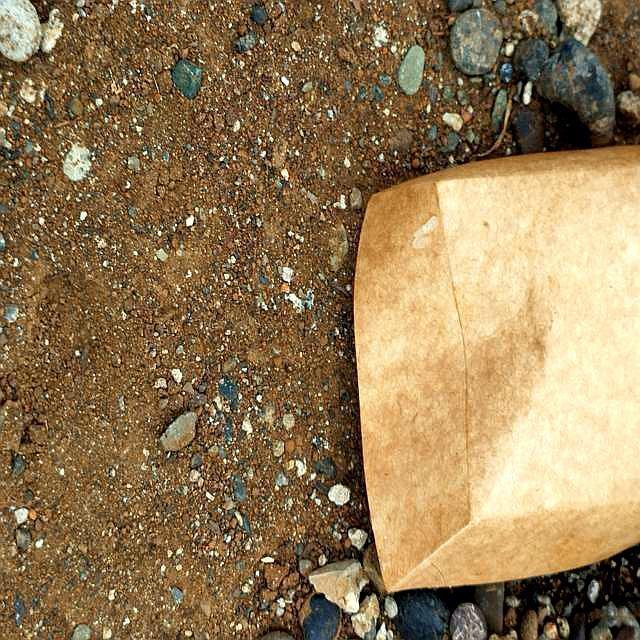Biodegradable: (357, 147, 640, 593)
